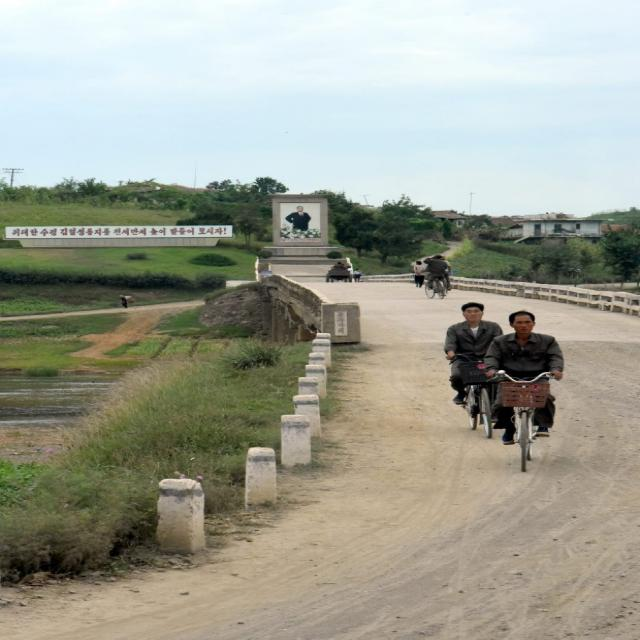body: (480, 310, 567, 446), (443, 301, 505, 404), (284, 203, 313, 240), (422, 254, 449, 293), (439, 254, 453, 291), (331, 260, 353, 282), (412, 260, 425, 288), (118, 294, 135, 310), (353, 268, 362, 282)
